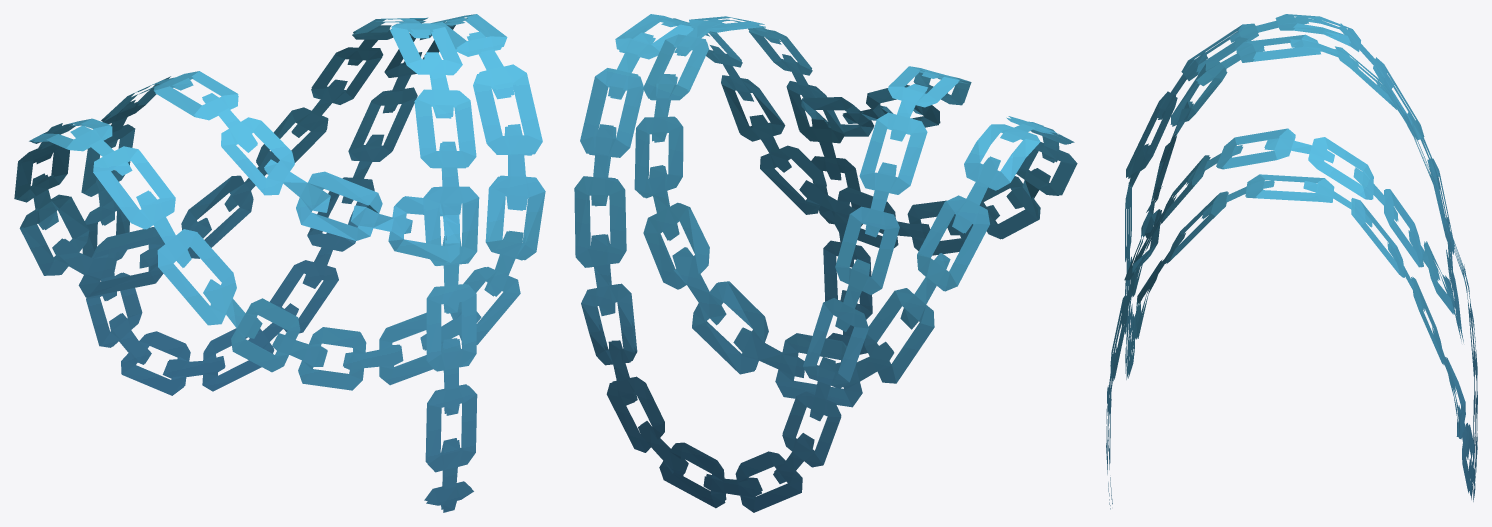
Rendered from CharSkyNPC_Horn_SkinnyIntellectualChains.glb.
3 views of the same model, side by side, from view 1: azimuth 30°, elevation 25°; view 2: azimuth 150°, elevation 25°; view 3: azimuth 270°, elevation 25° (orthographic). The views are drawn at different scales.
Parts seen in each view (by area): view 1: CharSkyNPC_Horn_SkinnyIntellectualChains; view 2: CharSkyNPC_Horn_SkinnyIntellectualChains; view 3: CharSkyNPC_Horn_SkinnyIntellectualChains.
Boxes of the visible parts, bbox=[...] form: CharSkyNPC_Horn_SkinnyIntellectualChains: bbox=[14, 14, 545, 512]; CharSkyNPC_Horn_SkinnyIntellectualChains: bbox=[574, 14, 1077, 512]; CharSkyNPC_Horn_SkinnyIntellectualChains: bbox=[1106, 14, 1477, 509].
Bounding box in the file's own units: 5.02 × 4.6 × 3.84.
Materials: 1 (1 with a texture image).
